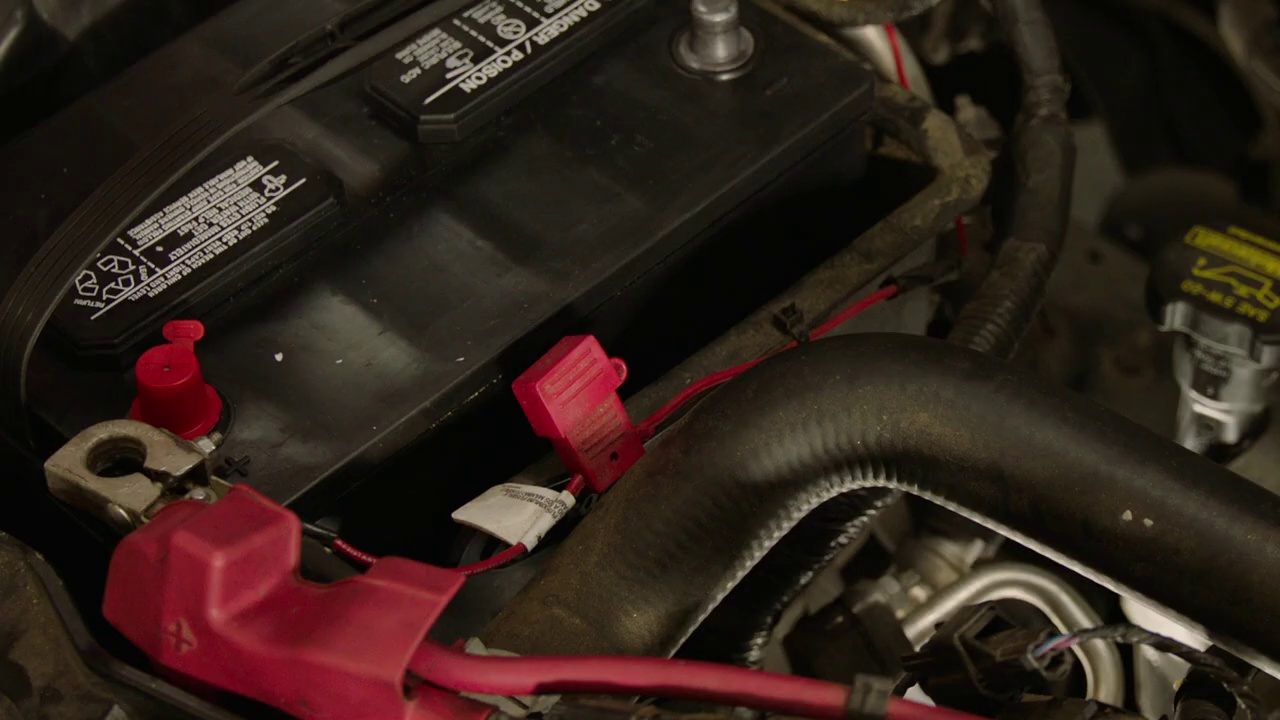battery: (13, 3, 884, 623)
neg_disconnected: (627, 3, 810, 108)
pos_disconnected: (67, 307, 253, 575)
